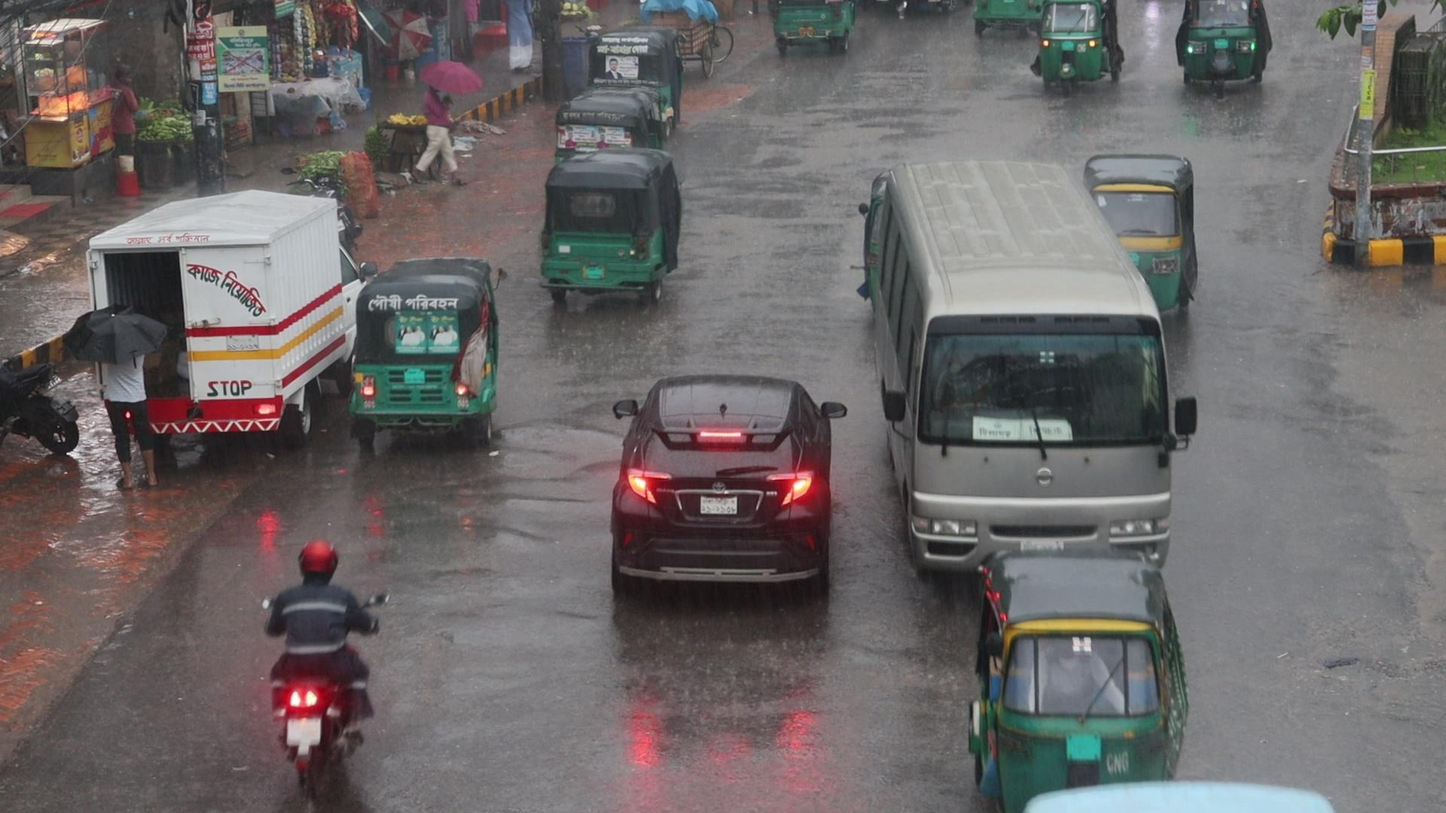Bike: (254, 533, 381, 813)
